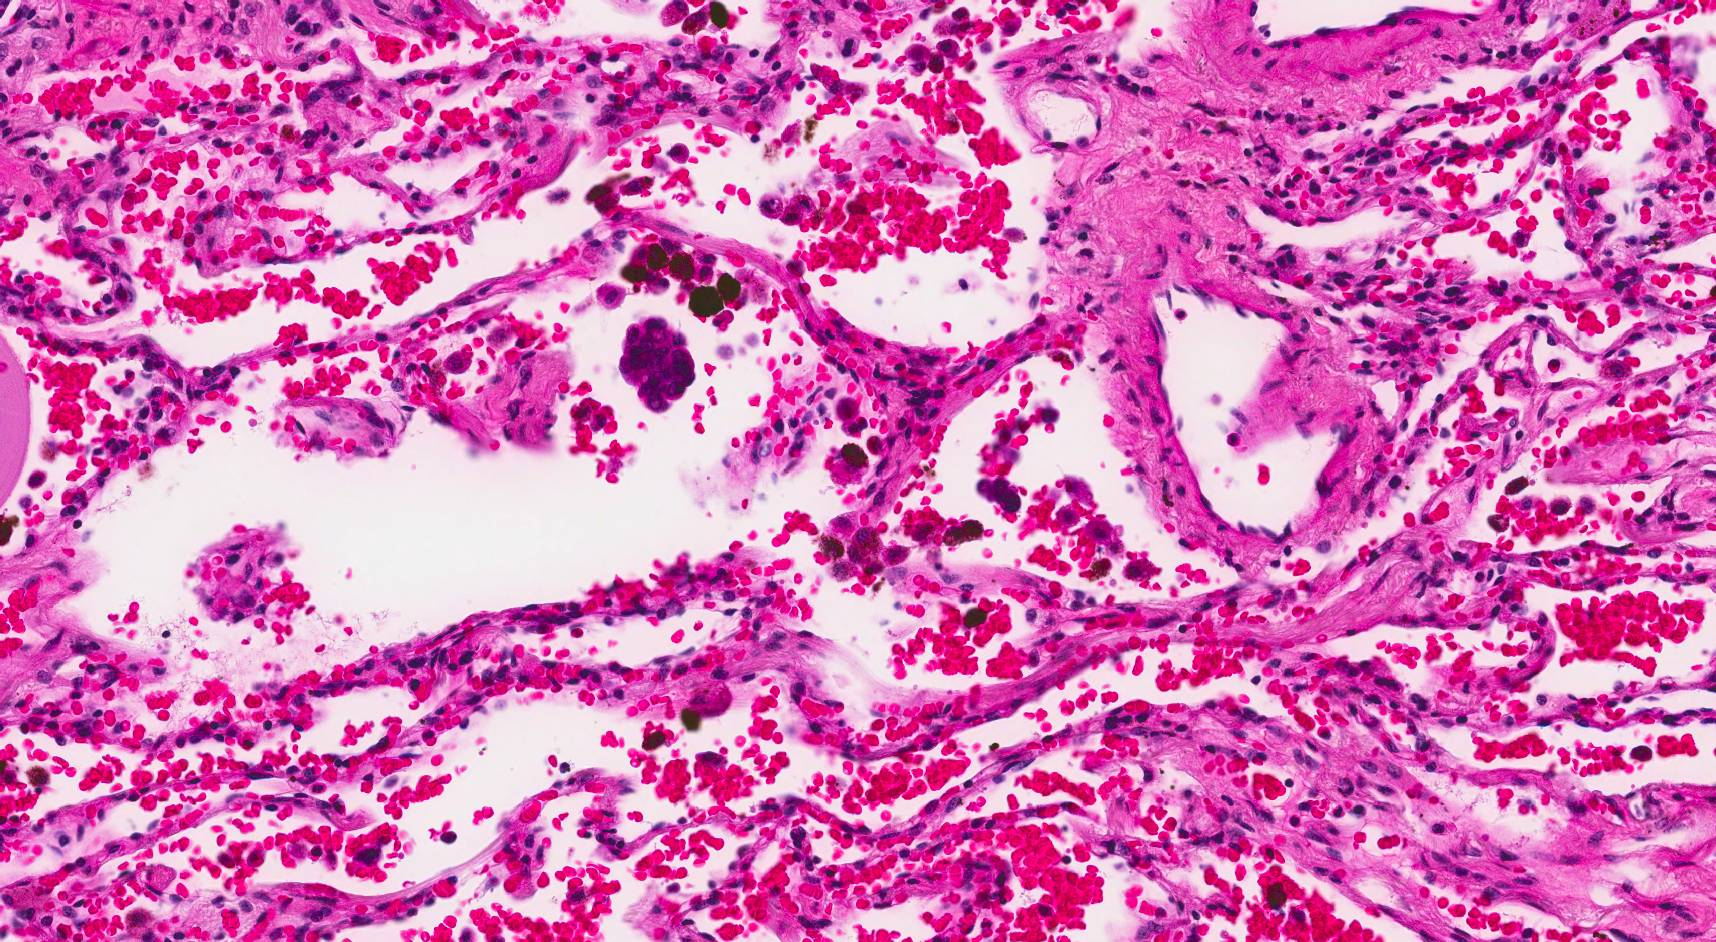stas: (618, 317, 698, 412)
